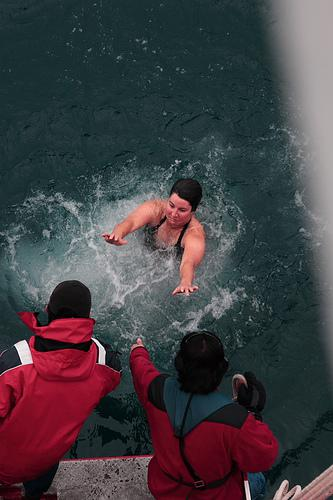human: (101, 172, 208, 302)
